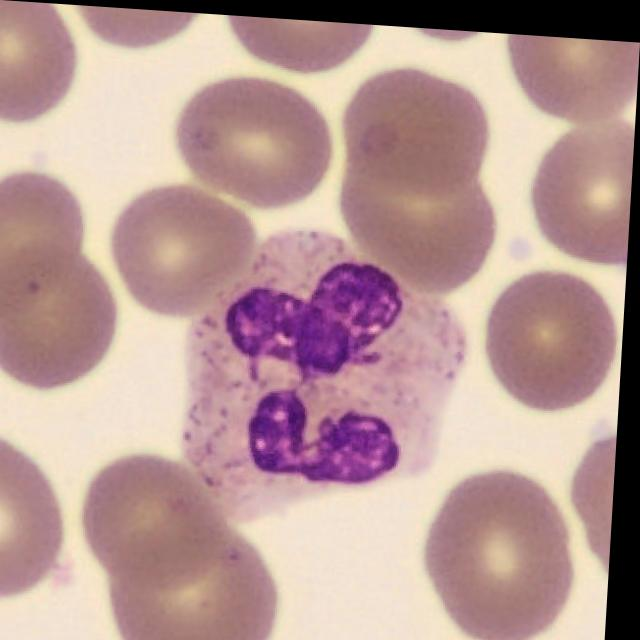Neutrofilo segmentado: (186, 221, 472, 517)
